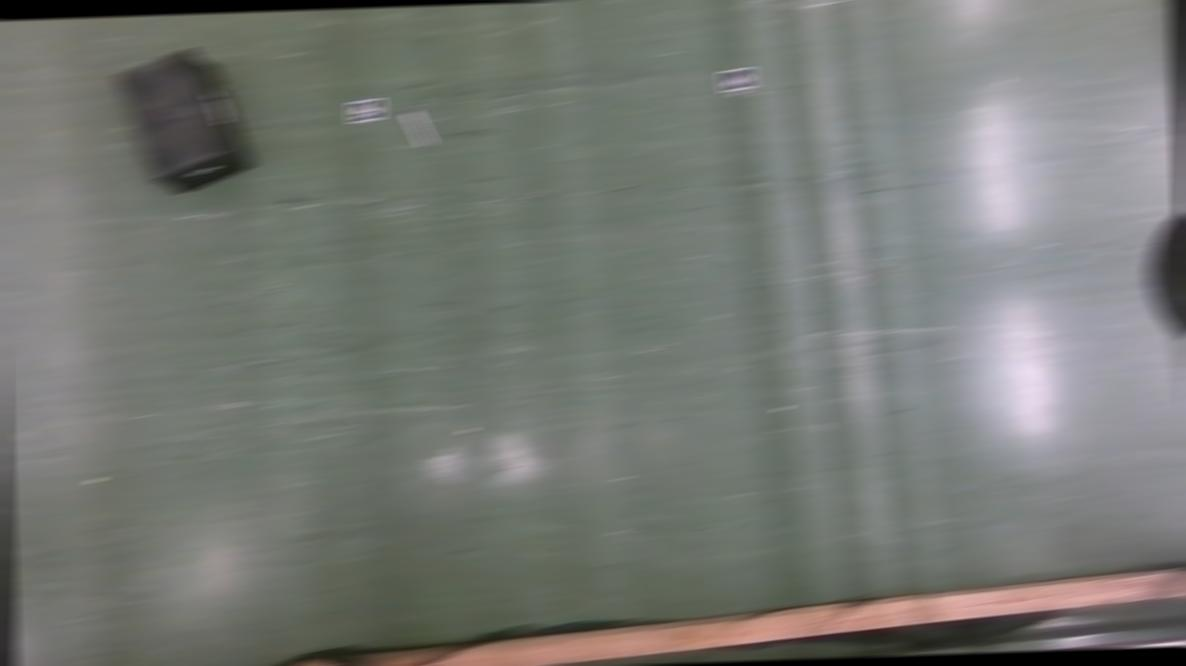probes: (407, 112, 433, 147)
rako: (112, 48, 254, 198)
